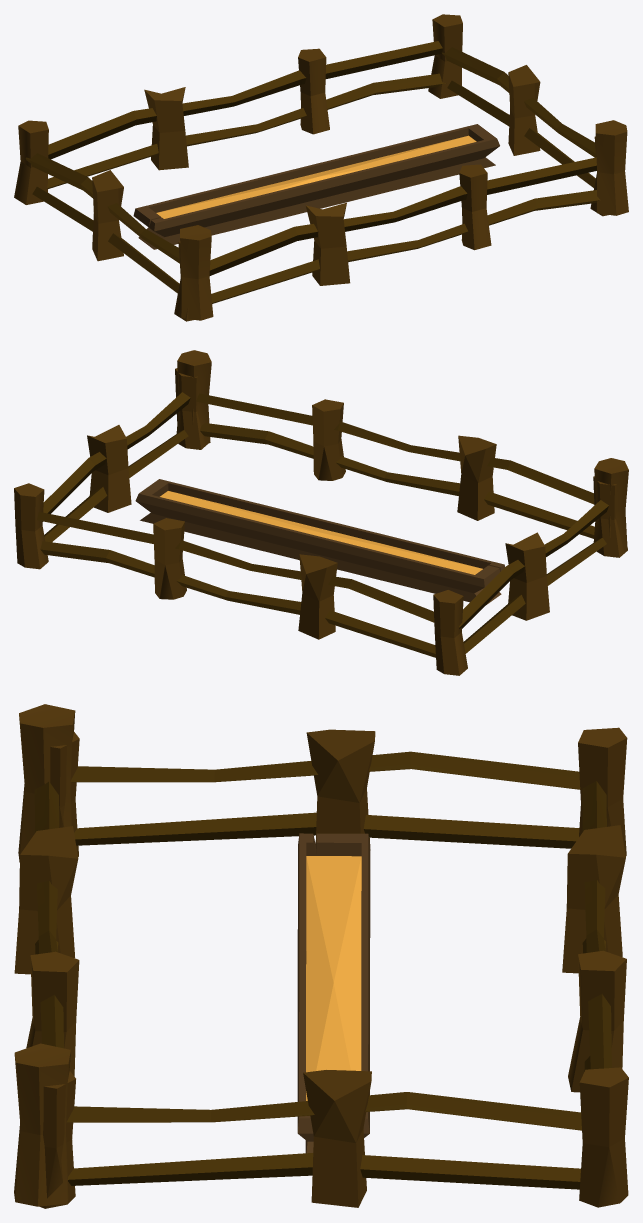
File: chickens-fence.glb
3 views of the same model, one above another, from view 1: azimuth 30°, elevation 25°; view 2: azimuth 150°, elevation 25°; view 3: azimuth 270°, elevation 25° (orthographic). The views are drawn at different scales.
Parts seen in each view (by area): view 1: fence; view 2: fence; view 3: fence.
Boxes of the visible parts, x1=… form: fence: x1=14, y1=14, x2=628, y2=321; fence: x1=14, y1=350, x2=628, y2=675; fence: x1=14, y1=704, x2=628, y2=1208.
Size of the model in its own units: 7.1 by 1.33 by 4.91.
